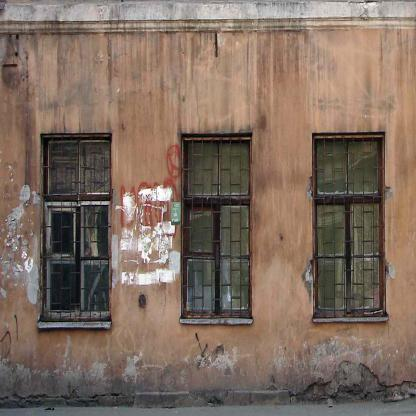Building Outline: (0, 1, 416, 408)
Facade: (0, 0, 416, 407)
Ground Floor: (0, 0, 416, 407)
Sill: (313, 316, 389, 323), (179, 318, 254, 325), (37, 322, 111, 329)
Window: (312, 132, 385, 317), (41, 133, 112, 322), (182, 133, 253, 317)
